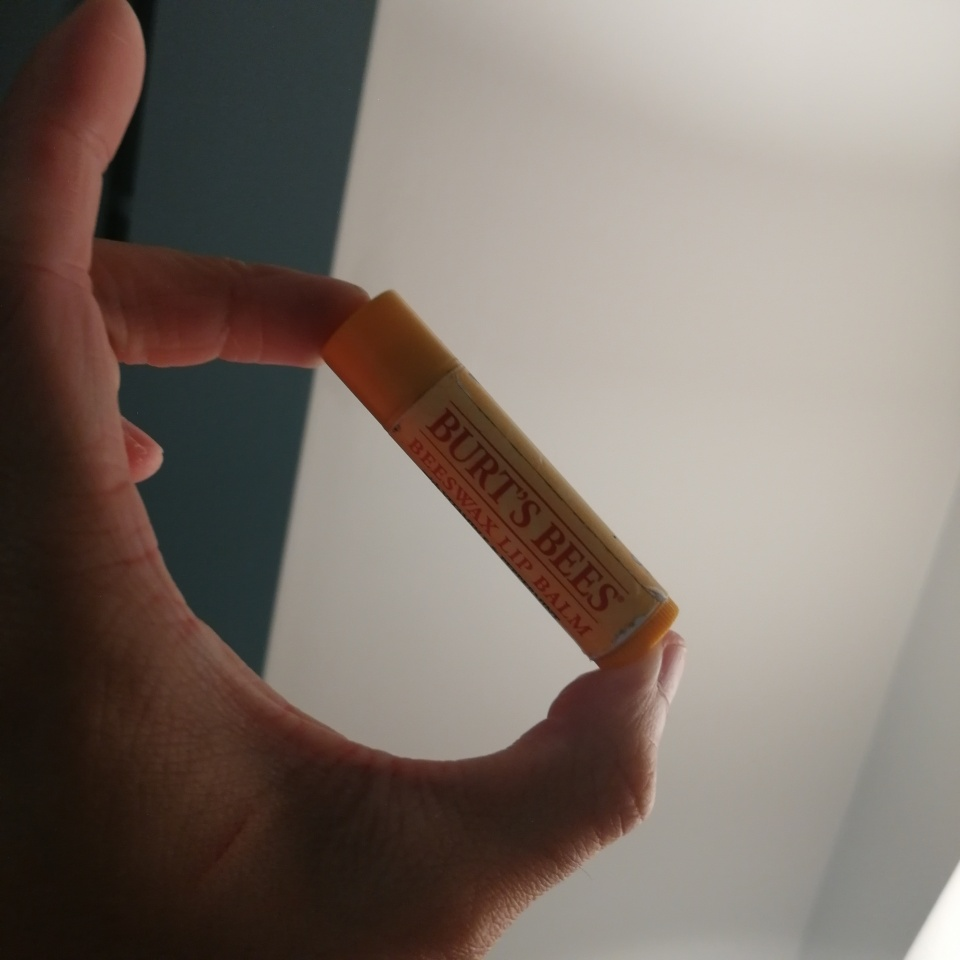chapstick: (320, 290, 682, 669)
